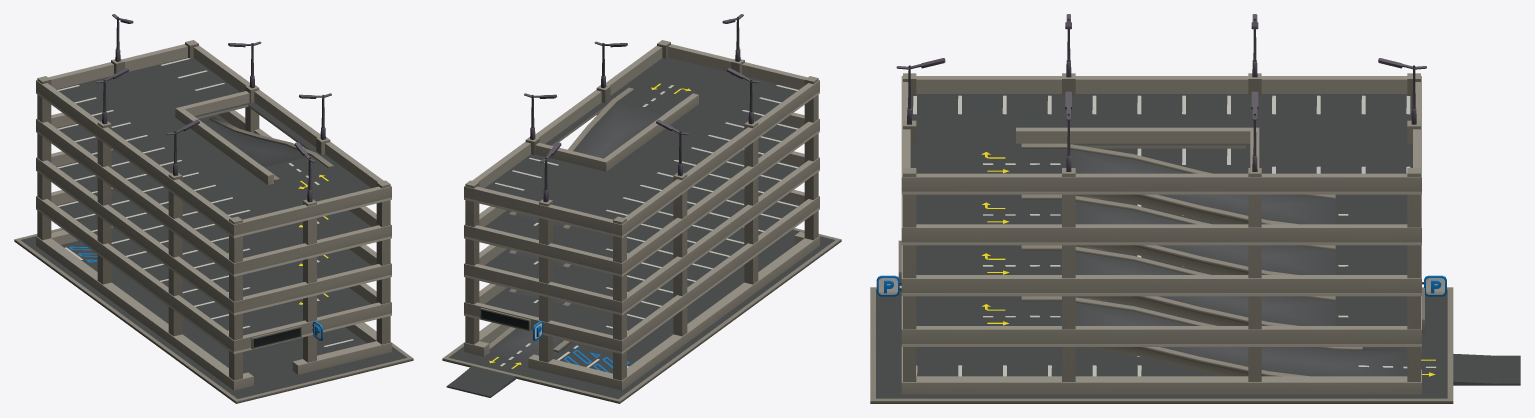
File: tc_parking_2a.glb
The picture shows the model from 3 angles, left to right: view 1: azimuth 30°, elevation 25°; view 2: azimuth 150°, elevation 25°; view 3: azimuth 270°, elevation 25°; orthographic projection. The views are drawn at different scales.
Visible parts, largest first — view 1: Parking_2A; view 2: Parking_2A, Parking_2A_Apron; view 3: Parking_2A, Parking_2A_Apron, Parking_1B_Logo.
Boxes of the visible parts, box(x1,y1,x2,y2) form: Parking_2A: box(14, 14, 413, 403); Parking_2A: box(442, 14, 841, 403); Parking_2A_Apron: box(446, 365, 515, 397); Parking_2A: box(870, 14, 1453, 403); Parking_2A_Apron: box(1453, 353, 1520, 385); Parking_1B_Logo: box(876, 275, 1446, 296).
Size of the model in its own units: 24 by 28.45 by 58.
1 material, 1 textured.
